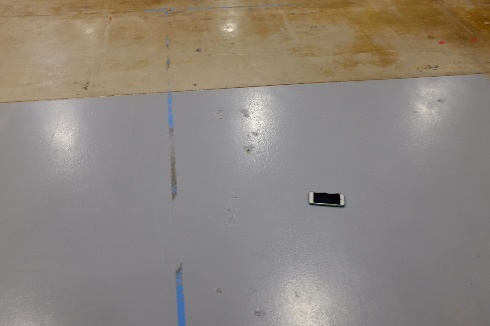phone: (301, 183, 350, 215)
